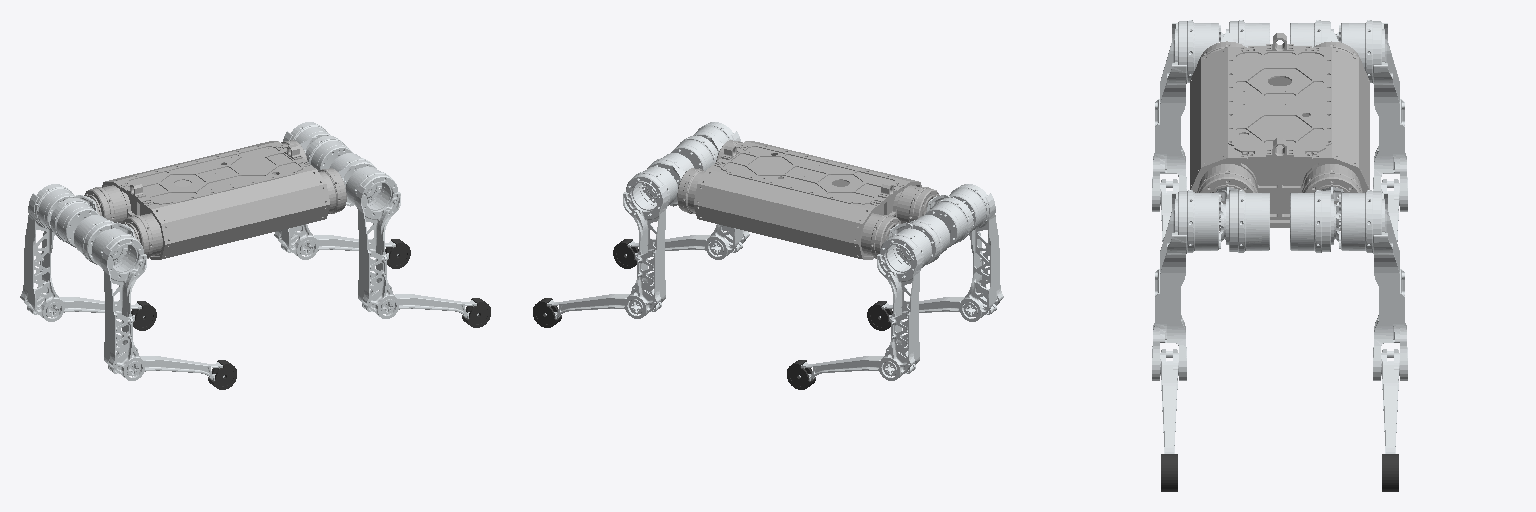
robot.urdf — raibot:
<?xml version="1.0" encoding="utf-8"?>
<!-- This URDF was automatically created by SolidWorks to URDF Exporter! Originally created by [author] ([email redacted]) 
     Commit Version: 1.6.0-1-g15f4949  Build Version: 1.6.7594.29634
     For more information, please see http://wiki.ros.org/sw_urdf_exporter -->
<robot
  name="raibot">
  <link
    name="base">
    <inertial>
      <origin
        xyz="-0.00029991 0.00016404 -0.03744115"
        rpy="0 0 0" />
      <mass
        value="12.37167760" />
      <inertia
        ixx="0.09099956"
        ixy="0.00086574"
        ixz="0.00061281"
        iyy="0.31985024"
        iyz="-0.00010439"
        izz="0.38017107" />
    </inertial>
    <visual>
      <origin
        xyz="0 0 0"
        rpy="0 0 0" />
      <geometry>
        <mesh
          filename="../meshes/base.STL" />
      </geometry>
      <material
        name="">
        <color
          rgba="0.75294 0.75294 0.75294 1" />
      </material>
    </visual>
    <collision>
      <origin
        xyz="0 0 -0.03625"
        rpy="0 0 0" />
      <geometry>
        <box size="0.7104 0.276 0.120"/>
      </geometry>
    </collision>
  </link>
  <link
    name="LF_HIP">
    <inertial>
      <origin
        xyz="-0.01076416 -0.02789344 0.00001059"
        rpy="0 0 0" />
      <mass
        value="1.29077719" />
      <inertia
        ixx="0.00098519"
        ixy="-0.00038663"
        ixz="0.00000019"
        iyy="0.00159759"
        iyz="-0.00000034"
        izz="0.00161789" />
    </inertial>
    <visual>
      <origin
        xyz="0 0 0"
        rpy="0 0 0" />
      <geometry>
        <mesh
          filename="../meshes/hip.STL" />
      </geometry>
      <material
        name="">
        <color
          rgba="0.89804 0.91765 0.92941 1" />
      </material>
    </visual>
  </link>
  <joint
    name="LF_HAA"
    type="revolute">
    <origin
      xyz="0.3072 0.08 -0.03625"
      rpy="0 0 0" />
    <parent
      link="base" />
    <child
      link="LF_HIP" />
    <axis
      xyz="1 0 0" />
    <limit
      lower="-1.5708"
      upper="1.5708"
      effort="63.45"
      velocity="25.7" />
    <dynamics
      rotor_inertia="0.005741839" />
  </joint>
  <link
    name="LF_THIGH">
    <inertial>
      <origin
        xyz="-0.00274830 -0.03667330 -0.03252796"
        rpy="0 0 0" />
      <mass
        value="1.96391657" />
      <inertia
        ixx="0.01250320"
        ixy="-0.00019782"
        ixz="0.00056475"
        iyy="0.01152322"
        iyz="-0.00237505"
        izz="0.00260694" />
    </inertial>
    <visual>
      <origin
        xyz="0 0 0"
        rpy="0 0 0" />
      <geometry>
        <mesh
          filename="../meshes/thighL.STL" />
      </geometry>
      <material
        name="">
        <color
          rgba="0.89804 0.91765 0.92941 1" />
      </material>
    </visual>
    <collision>
      <origin rpy="1.57079632679 0 0" xyz="0 0 -0.240"/>
      <geometry>
        <cylinder length="0.053" radius="0.0265"/>
      </geometry>
    </collision>
  </link>
  <joint
    name="LF_HFE"
    type="revolute">
    <origin
      xyz="0 0.0889 0"
      rpy="0 0 0" />
    <parent
      link="LF_HIP" />
    <child
      link="LF_THIGH" />
    <axis
      xyz="0 1 0" />
    <limit
      lower="-6.2832"
      upper="6.2832"
      effort="63.45"
      velocity="25.7" />
    <dynamics
       rotor_inertia="0.005741839" />
  </joint>
  <link
    name="LF_SHANK">
    <inertial>
      <origin
        xyz="0.00130151 0.00028383 -0.07226528"
        rpy="0 0 0" />
      <mass
        value="0.29554748" />
      <inertia
        ixx="0.00272392"
        ixy="-0.00000023"
        ixz="-0.00006457"
        iyy="0.00273312"
        iyz="0.00000543"
        izz="0.00008268" />
    </inertial>
    <visual>
      <origin
        xyz="0 0 0"
        rpy="0 0 0" />
      <geometry>
        <mesh
          filename="../meshes/shank.STL" />
      </geometry>
      <material
        name="">
        <color
          rgba="0.898039215686275 0.917647058823529 0.929411764705882 1" />
      </material>
    </visual>
    <collision>
      <origin rpy="0 1.57100577 0" xyz="0.0103 0 -0.1544"/>
      <geometry>
        <box size="0.1711 0.020 0.0253"/>
      </geometry>
    </collision>
  </link>
  <joint
    name="LF_KFE"
    type="revolute">
    <origin
      xyz="0 0 -0.24"
      rpy="0 0 0" />
    <parent
      link="LF_THIGH" />
    <child
      link="LF_SHANK" />
    <axis
      xyz="0 1 0" />
    <limit
      lower="-2.4696"
      upper="-0.0262"
      effort="63.45"
      velocity="25.7" />
    <dynamics
       rotor_inertia="0.005741839" />
  </joint>
  <link
    name="LF_FOOT">
    <inertial>
      <origin
        xyz="-0.00051991 -0.00103462 -0.00171611"
        rpy="0 0 0" />
      <mass
        value="0.06096633" />
      <inertia
        ixx="0.00001314"
        ixy="-0.00000003"
        ixz="-0.00000063"
        iyy="0.00001600"
        iyz="-0.00000011"
        izz="0.00001501" />
    </inertial>
    <visual>
      <origin
        xyz="0 0 0"
        rpy="0 0 0" />
      <geometry>
        <mesh
          filename="../meshes/foot.STL" />
      </geometry>
      <material
        name="">
        <color
          rgba="0.298039215686275 0.298039215686275 0.298039215686275 1" />
      </material>
    </visual>
    <collision>
      <origin rpy="1.57079632679 0 0" xyz="0 0 0"/>
      <geometry>
        <cylinder length="0.025" radius="0.0295"/>
      </geometry>
    </collision>
  </link>
  <joint
    name="LF_S2F"
    type="fixed">
    <origin
      xyz="0 0 -0.24"
      rpy="0 0 0" />
    <parent
      link="LF_SHANK" />
    <child
      link="LF_FOOT" />
    <axis
      xyz="0 0 0" />
  </joint>
  <link
    name="RF_HIP">
    <inertial>
      <origin
        xyz="-0.01073828 0.02789298 0.00001059"
        rpy="0 0 0" />
      <mass
        value="1.29077719" />
      <inertia
        ixx="0.00098523"
        ixy="0.00038772"
        ixz="0.00000010"
        iyy="0.00159830"
        iyz="0.00000034"
        izz="0.00161863" />
    </inertial>
    <visual>
      <origin
        xyz="0 0 0"
        rpy="3.141592654 0 0" />
      <geometry>
        <mesh
          filename="../meshes/hip.STL" />
      </geometry>
      <material
        name="">
        <color
          rgba="0.898039215686275 0.917647058823529 0.929411764705882 1" />
      </material>
    </visual>
  </link>
  <joint
    name="RF_HAA"
    type="revolute">
    <origin
      xyz="0.3072 -0.08 -0.03625"
      rpy="0 0 0" />
    <parent
      link="base" />
    <child
      link="RF_HIP" />
    <axis
      xyz="1 0 0" />
    <limit
      lower="-1.5708"
      upper="1.5708"
      effort="63.45"
      velocity="25.7" />
    <dynamics
       rotor_inertia="0.005741839" />
  </joint>
  <link
    name="RF_THIGH">
    <inertial>
      <origin
        xyz="-0.00276626 0.03667330 -0.03253545"
        rpy="0 0 0" />
      <mass
        value="1.96391676" />
      <inertia
        ixx="0.01250229"
        ixy="0.00019679"
        ixz="0.00056362"
        iyy="0.01152207"
        iyz="0.00237461"
        izz="0.00260670" />
    </inertial>
    <visual>
      <origin
        xyz="0 0 0"
        rpy="0 0 0" />
      <geometry>
        <mesh
          filename="../meshes/thighR.STL" />
      </geometry>
      <material
        name="">
        <color
          rgba="0.898039215686275 0.917647058823529 0.929411764705882 1" />
      </material>
    </visual>
    <collision>
      <origin rpy="1.57079632679 0 0" xyz="0 0 -0.240"/>
      <geometry>
        <cylinder length="0.053" radius="0.0265"/>
      </geometry>
    </collision>
  </link>
  <joint
    name="RF_HFE"
    type="revolute">
    <origin
      xyz="0 -0.0889 0"
      rpy="0 0 0" />
    <parent
      link="RF_HIP" />
    <child
      link="RF_THIGH" />
    <axis
      xyz="0 1 0" />
    <limit
      lower="-6.2832"
      upper="6.2832"
      effort="63.45"
      velocity="25.7" />
    <dynamics
       rotor_inertia="0.005741839" />
  </joint>
  <link
    name="RF_SHANK">
    <inertial>
      <origin
        xyz="0.00130082 0.00028383 -0.07226529"
        rpy="0 0 0" />
      <mass
        value="0.29554748" />
      <inertia
        ixx="0.00272392"
        ixy="-0.00000023"
        ixz="-0.00006457"
        iyy="0.00273312"
        iyz="0.00000543"
        izz="0.00008268" />
    </inertial>
    <visual>
      <origin
        xyz="0 0 0"
        rpy="0 0 0" />
      <geometry>
        <mesh
          filename="../meshes/shank.STL" />
      </geometry>
      <material
        name="">
        <color
          rgba="0.898039215686275 0.917647058823529 0.929411764705882 1" />
      </material>
    </visual>
    <collision>
      <origin rpy="0 1.57100577 0" xyz="0.0103 0 -0.1544"/>
      <geometry>
        <box size="0.1711 0.020 0.0253"/>
      </geometry>
    </collision>
  </link>
  <joint
    name="RF_KFE"
    type="revolute">
    <origin
      xyz="0 0 -0.24"
      rpy="0 0 0" />
    <parent
      link="RF_THIGH" />
    <child
      link="RF_SHANK" />
    <axis
      xyz="0 1 0" />
    <limit
      lower="-2.4696"
      upper="-0.0262"
      effort="63.45"
      velocity="25.7" />
    <dynamics
       rotor_inertia="0.005741839" />
  </joint>
  <link
    name="RF_FOOT">
    <inertial>
      <origin
        xyz="-0.00051991 -0.00103462 -0.00171611"
        rpy="0 0 0" />
      <mass
        value="0.06096633" />
      <inertia
        ixx="0.00001314"
        ixy="-0.00000003"
        ixz="-0.00000063"
        iyy="0.00001600"
        iyz="-0.00000011"
        izz="0.00001501" />
    </inertial>
    <visual>
      <origin
        xyz="0 0 0"
        rpy="0 0 0" />
      <geometry>
        <mesh
          filename="../meshes/foot.STL" />
      </geometry>
      <material
        name="">
        <color
          rgba="0.298039215686275 0.298039215686275 0.298039215686275 1" />
      </material>
    </visual>
    <collision>
      <origin rpy="1.57079632679 0 0" xyz="0 0 0"/>
      <geometry>
        <cylinder length="0.025" radius="0.0295"/>
      </geometry>
    </collision>
  </link>
  <joint
    name="RF_S2F"
    type="fixed">
    <origin
      xyz="0 0 -0.24"
      rpy="0 0 0" />
    <parent
      link="RF_SHANK" />
    <child
      link="RF_FOOT" />
    <axis
      xyz="0 0 0" />
  </joint>
  <link
    name="LH_HIP">
    <inertial>
      <origin
        xyz="0.01073455 -0.02789344 -0.00000109"
        rpy="0 0 0" />
      <mass
        value="1.29077719" />
      <inertia
        ixx="0.00098523"
        ixy="0.00038778"
        ixz="0.00000000"
        iyy="0.00159841"
        iyz="0.00000013"
        izz="0.00161867" />
    </inertial>
    <visual>
      <origin
        xyz="0 0 0"
        rpy="0 3.141592654 0" />
      <geometry>
        <mesh
          filename="../meshes/hip.STL" />
      </geometry>
      <material
        name="">
        <color
          rgba="0.898039215686275 0.917647058823529 0.929411764705882 1" />
      </material>
    </visual>
  </link>
  <joint
    name="LH_HAA"
    type="revolute">
    <origin
      xyz="-0.3072 0.08 -0.03625"
      rpy="0 0 0" />
    <parent
      link="base" />
    <child
      link="LH_HIP" />
    <axis
      xyz="1 0 0" />
    <limit
      lower="-1.5708"
      upper="1.5708"
      effort="63.45"
      velocity="25.7" />
    <dynamics
       rotor_inertia="0.005741839" />
  </joint>
  <link
    name="LH_THIGH">
    <inertial>
      <origin
        xyz="-0.00274824 -0.03667330 -0.03252704"
        rpy="0 0 0" />
      <mass
        value="1.96391657" />
      <inertia
        ixx="0.01250319"
        ixy="-0.00019783"
        ixz="0.00056475"
        iyy="0.01152322"
        iyz="-0.00237504"
        izz="0.00260694" />
    </inertial>
    <visual>
      <origin
        xyz="0 0 0"
        rpy="0 0 0" />
      <geometry>
        <mesh
          filename="../meshes/thighL.STL" />
      </geometry>
      <material
        name="">
        <color
          rgba="0.898039215686275 0.917647058823529 0.929411764705882 1" />
      </material>
    </visual>
    <collision>
      <origin rpy="1.57079632679 0 0" xyz="0 0 -0.240"/>
      <geometry>
        <cylinder length="0.053" radius="0.0265"/>
      </geometry>
    </collision>
  </link>
  <joint
    name="LH_HFE"
    type="revolute">
    <origin
      xyz="0 0.0889 0"
      rpy="0 0 0" />
    <parent
      link="LH_HIP" />
    <child
      link="LH_THIGH" />
    <axis
      xyz="0 1 0" />
    <limit
      lower="-6.2832"
      upper="6.2832"
      effort="63.45"
      velocity="25.7" />
    <dynamics
       rotor_inertia="0.005741839" />
  </joint>
  <link
    name="LH_SHANK">
    <inertial>
      <origin
        xyz="0.00130151 0.00028383 -0.07226525"
        rpy="0 0 0" />
      <mass
        value="0.29554748" />
      <inertia
        ixx="0.00272392"
        ixy="-0.00000023"
        ixz="-0.00006457"
        iyy="0.00273312"
        iyz="0.00000543"
        izz="0.00008268" />
    </inertial>
    <visual>
      <origin
        xyz="0 0 0"
        rpy="0 0 0" />
      <geometry>
        <mesh
          filename="../meshes/shank.STL" />
      </geometry>
      <material
        name="">
        <color
          rgba="0.898039215686275 0.917647058823529 0.929411764705882 1" />
      </material>
    </visual>
    <collision>
      <origin rpy="0 1.57100577 0" xyz="0.0103 0 -0.1544"/>
      <geometry>
        <box size="0.1711 0.020 0.0253"/>
      </geometry>
    </collision>
  </link>
  <joint
    name="LH_KFE"
    type="revolute">
    <origin
      xyz="0 0 -0.24"
      rpy="0 0 0" />
    <parent
      link="LH_THIGH" />
    <child
      link="LH_SHANK" />
    <axis
      xyz="0 1 0" />
    <limit
      lower="-2.4696"
      upper="-0.0262"
      effort="63.45"
      velocity="25.7" />
    <dynamics
       rotor_inertia="0.005741839" />
  </joint>
  <link
    name="LH_FOOT">
    <inertial>
      <origin
        xyz="-0.00051991 -0.00103462 -0.00171611"
        rpy="0 0 0" />
      <mass
        value="0.06096633" />
      <inertia
        ixx="0.00001314"
        ixy="-0.00000003"
        ixz="-0.00000063"
        iyy="0.00001600"
        iyz="-0.00000011"
        izz="0.00001501" />
    </inertial>
    <visual>
      <origin
        xyz="0 0 0"
        rpy="0 0 0" />
      <geometry>
        <mesh
          filename="../meshes/foot.STL" />
      </geometry>
      <material
        name="">
        <color
          rgba="0.298039215686275 0.298039215686275 0.298039215686275 1" />
      </material>
    </visual>
    <collision>
      <origin rpy="1.57079632679 0 0" xyz="0 0 0"/>
      <geometry>
        <cylinder length="0.025" radius="0.0295"/>
      </geometry>
    </collision>
  </link>
  <joint
    name="LH_S2F"
    type="fixed">
    <origin
      xyz="0 0 -0.24"
      rpy="0 0 0" />
    <parent
      link="LH_SHANK" />
    <child
      link="LH_FOOT" />
    <axis
      xyz="0 0 0" />
  </joint>
  <link
    name="RH_HIP">
    <inertial>
      <origin
        xyz="0.01074969 0.02789298 -0.00001644"
        rpy="0 0 0" />
      <mass
        value="1.29077719" />
      <inertia
        ixx="0.00098517"
        ixy="-0.00038732"
        ixz="0.00000022"
        iyy="0.00159798"
        iyz="-0.00000061"
        izz="0.00161837" />
    </inertial>
    <visual>
      <origin
        xyz="0 0 0"
        rpy="0 0 3.141592654" />
      <geometry>
        <mesh
          filename="../meshes/hip.STL" />
      </geometry>
      <material
        name="">
        <color
          rgba="0.898039215686275 0.917647058823529 0.929411764705882 1" />
      </material>
    </visual>
  </link>
  <joint
    name="RH_HAA"
    type="revolute">
    <origin
      xyz="-0.3072 -0.08 -0.03625"
      rpy="0 0 0" />
    <parent
      link="base" />
    <child
      link="RH_HIP" />
    <axis
      xyz="1 0 0" />
    <limit
      lower="-1.5708"
      upper="1.5708"
      effort="63.45"
      velocity="25.7" />
    <dynamics
       rotor_inertia="0.005741839" />
  </joint>
  <link
    name="RH_THIGH">
    <inertial>
      <origin
        xyz="-0.00275637 0.03667150 -0.03254657"
        rpy="0 0 0" />
      <mass
        value="1.96391676" />
      <inertia
        ixx="0.01250094"
        ixy="0.00019734"
        ixz="0.00056417"
        iyy="0.01152066"
        iyz="0.00237400"
        izz="0.00260716" />
    </inertial>
    <visual>
      <origin
        xyz="0 0 0"
        rpy="0 0 0" />
      <geometry>
        <mesh
          filename="../meshes/thighR.STL" />
      </geometry>
      <material
        name="">
        <color
          rgba="0.898039215686275 0.917647058823529 0.929411764705882 1" />
      </material>
    </visual>
    <collision>
      <origin rpy="1.57079632679 0 0" xyz="0 0 -0.240"/>
      <geometry>
        <cylinder length="0.053" radius="0.0265"/>
      </geometry>
    </collision>
  </link>
  <joint
    name="RH_HFE"
    type="revolute">
    <origin
      xyz="0 -0.0889 0"
      rpy="0 0 0" />
    <parent
      link="RH_HIP" />
    <child
      link="RH_THIGH" />
    <axis
      xyz="0 1 0" />
    <limit
      lower="-6.2832"
      upper="6.2832"
      effort="63.45"
      velocity="25.7" />
    <dynamics
       rotor_inertia="0.005741839" />
  </joint>
  <link
    name="RH_SHANK">
    <inertial>
      <origin
        xyz="0.00130151 0.00028383 -0.07226529"
        rpy="0 0 0" />
      <mass
        value="0.29554748" />
      <inertia
        ixx="0.00272392"
        ixy="-0.00000023"
        ixz="-0.00006457"
        iyy="0.00273312"
        iyz="0.00000543"
        izz="0.00008268" />
    </inertial>
    <visual>
      <origin
        xyz="0 0 0"
        rpy="0 0 0" />
      <geometry>
        <mesh
          filename="../meshes/shank.STL" />
      </geometry>
      <material
        name="">
        <color
          rgba="0.898039215686275 0.917647058823529 0.929411764705882 1" />
      </material>
    </visual>
    <collision>
      <origin rpy="0 1.57100577 0" xyz="0.0103 0 -0.1544"/>
      <geometry>
        <box size="0.1711 0.020 0.0253"/>
      </geometry>
    </collision>
  </link>
  <joint
    name="RH_KFE"
    type="revolute">
    <origin
      xyz="0 0 -0.24"
      rpy="0 0 0" />
    <parent
      link="RH_THIGH" />
    <child
      link="RH_SHANK" />
    <axis
      xyz="0 1 0" />
    <limit
      lower="-2.4696"
      upper="-0.0262"
      effort="63.45"
      velocity="25.7" />
    <dynamics
       rotor_inertia="0.005741839" />
  </joint>
  <link
    name="RH_FOOT">
    <inertial>
      <origin
        xyz="-0.00051991 -0.00103462 -0.00171611"
        rpy="0 0 0" />
      <mass
        value="0.06096633" />
      <inertia
        ixx="0.00001314"
        ixy="-0.00000003"
        ixz="-0.00000063"
        iyy="0.00001600"
        iyz="-0.00000011"
        izz="0.00001501" />
    </inertial>
    <visual>
      <origin
        xyz="0 0 0"
        rpy="0 0 0" />
      <geometry>
        <mesh
          filename="../meshes/foot.STL" />
      </geometry>
      <material
        name="">
        <color
          rgba="0.298039215686275 0.298039215686275 0.298039215686275 1" />
      </material>
    </visual>
    <collision>
      <origin rpy="1.57079632679 0 0" xyz="0 0 0"/>
      <geometry>
        <cylinder length="0.025" radius="0.0295"/>
      </geometry>
    </collision>
  </link>
  <joint
    name="RH_S2F"
    type="fixed">
    <origin
      xyz="0 0 -0.24"
      rpy="0 0 0" />
    <parent
      link="RH_SHANK" />
    <child
      link="RH_FOOT" />
    <axis
      xyz="0 0 0" />
  </joint>
</robot>

--- Facts derived from the render (not from the file) ---
The picture shows the robot from 3 angles, left to right: view 1: azimuth 30°, elevation 25°; view 2: azimuth 150°, elevation 25°; view 3: azimuth 270°, elevation 25°; orthographic projection.
Model raibot with 17 links and 16 joints (12 revolute, 4 fixed), rooted at base, posed all joints at 0 but 4 set to mid-range because 0 is outside their limits (LF_KFE = -1.25, RF_KFE = -1.25, LH_KFE = -1.25, RH_KFE = -1.25).
Links seen in each view (by area): view 1: base, RF_THIGH, RH_THIGH, LH_THIGH, LH_HIP, LF_THIGH, RH_SHANK, RF_SHANK, RH_HIP, LF_HIP, LH_SHANK, LF_SHANK (+5 smaller); view 2: base, LH_THIGH, LF_THIGH, RH_THIGH, RH_HIP, RF_THIGH, LF_SHANK, LH_SHANK, LH_HIP, RF_HIP, RF_SHANK, RH_SHANK (+5 smaller); view 3: base, RF_THIGH, LF_THIGH, LH_THIGH, RH_THIGH, LF_HIP, RF_HIP, LF_SHANK, RF_SHANK, LH_HIP, RH_HIP, LF_FOOT (+3 smaller).
Link boxes in pixels (x1,y1,x2,y2): base: [84, 140, 346, 259]; RF_THIGH: [346, 166, 400, 318]; RH_THIGH: [92, 228, 146, 380]; LH_THIGH: [20, 184, 74, 321]; LH_HIP: [50, 195, 98, 247]; LF_THIGH: [274, 122, 331, 259]; RH_SHANK: [108, 353, 224, 380]; RF_SHANK: [362, 291, 478, 318]; RH_HIP: [74, 215, 134, 264]; LF_HIP: [300, 136, 352, 170]; LH_SHANK: [27, 296, 144, 321]; LF_SHANK: [281, 234, 398, 259]; base: [677, 140, 939, 259]; LH_THIGH: [877, 228, 931, 380]; LF_THIGH: [623, 166, 677, 318]; RH_THIGH: [949, 184, 1003, 321]; RH_HIP: [925, 195, 973, 247]; RF_THIGH: [693, 122, 749, 259]; LF_SHANK: [545, 291, 661, 318]; LH_SHANK: [799, 353, 915, 380]; LH_HIP: [889, 215, 949, 264]; RF_HIP: [671, 135, 723, 170]; RF_SHANK: [625, 234, 742, 259]; RH_SHANK: [879, 296, 996, 321]; base: [1190, 33, 1369, 230]; RF_THIGH: [1152, 190, 1225, 380]; LF_THIGH: [1334, 190, 1407, 380]; LH_THIGH: [1335, 20, 1407, 211]; RH_THIGH: [1152, 20, 1224, 211]; LF_HIP: [1290, 187, 1343, 252]; RF_HIP: [1216, 187, 1269, 252]; LF_SHANK: [1381, 349, 1399, 453]; RF_SHANK: [1160, 349, 1178, 453]; LH_HIP: [1290, 20, 1338, 47]; RH_HIP: [1221, 20, 1269, 47]; LF_FOOT: [1382, 454, 1398, 491].
Bounding box of the posed robot: 0.9227 × 0.3908 × 0.4277 m (x, y, z).
Meshes: 6 distinct files referenced, 17 mesh visuals loaded (6 binary STL).